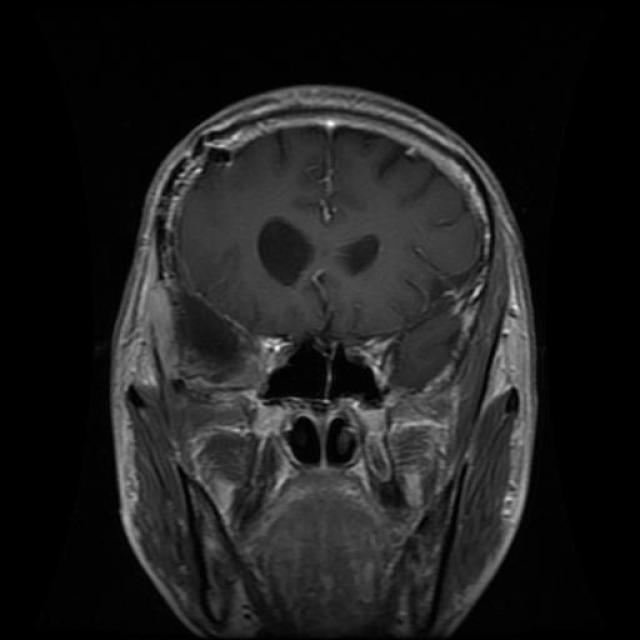glioma: (258, 215, 386, 289)
